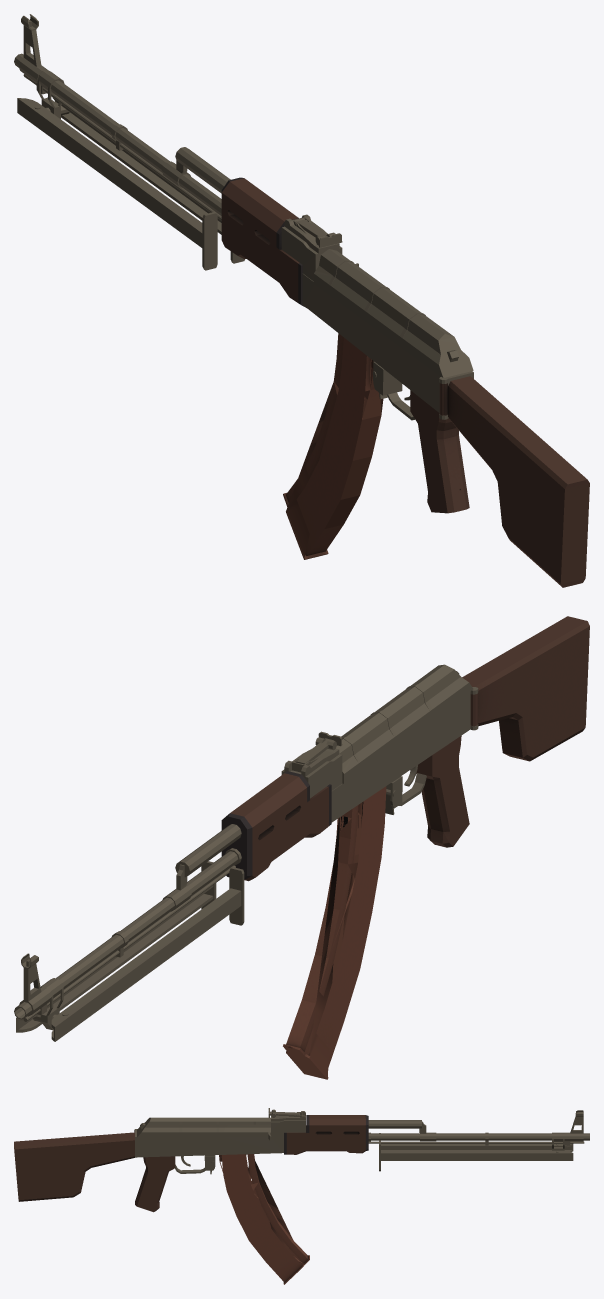
The model's file is rpk74.glb.
The picture shows the model from 3 angles, top to bottom: view 1: azimuth 30°, elevation 25°; view 2: azimuth 150°, elevation 25°; view 3: azimuth 270°, elevation 25°; orthographic projection. The views are drawn at different scales.
Visible parts, largest first — view 1: Stock_Heavy_AK_Platform_Guards_mat_0, Body_AK_Platform_Body_mat_0, Magazine_Extended_Bakelite_AK_Platforms_Magazine_mat_0, Barrel_Long_AK_Platform_Body_mat_0, Handguard_Heavy_AK_Platform_Guards_mat_0, Bipod_Leg_Left_AK_Platform_Body_mat_0, Grip_AK_Platform_Guards_mat_0, Bipod_Leg_Right_AK_Platform_Body_mat_0; view 2: Magazine_Extended_Bakelite_AK_Platforms_Magazine_mat_0, Body_AK_Platform_Body_mat_0, Stock_Heavy_AK_Platform_Guards_mat_0, Barrel_Long_AK_Platform_Body_mat_0, Handguard_Heavy_AK_Platform_Guards_mat_0, Bipod_Leg_Left_AK_Platform_Body_mat_0, Grip_AK_Platform_Guards_mat_0, Bipod_Leg_Right_AK_Platform_Body_mat_0, Ironsights_AK_Platform_Body_mat_0, Bipod_mount_AK_Platform_Body_mat_0; view 3: Body_AK_Platform_Body_mat_0, Stock_Heavy_AK_Platform_Guards_mat_0, Magazine_Extended_Bakelite_AK_Platforms_Magazine_mat_0, Barrel_Long_AK_Platform_Body_mat_0, Handguard_Heavy_AK_Platform_Guards_mat_0, Bipod_Leg_Right_AK_Platform_Body_mat_0, Bipod_Leg_Left_AK_Platform_Body_mat_0, Grip_AK_Platform_Guards_mat_0, Bolt_AK_Platform_Body_mat_0.
Part boxes in pixels (x1,y1,x2,y2): Stock_Heavy_AK_Platform_Guards_mat_0: [439, 376, 589, 587]; Body_AK_Platform_Body_mat_0: [281, 214, 473, 420]; Magazine_Extended_Bakelite_AK_Platforms_Magazine_mat_0: [283, 333, 383, 559]; Barrel_Long_AK_Platform_Body_mat_0: [14, 14, 230, 220]; Handguard_Heavy_AK_Platform_Guards_mat_0: [221, 177, 306, 307]; Bipod_Leg_Left_AK_Platform_Body_mat_0: [17, 98, 217, 270]; Grip_AK_Platform_Guards_mat_0: [410, 390, 469, 513]; Bipod_Leg_Right_AK_Platform_Body_mat_0: [53, 98, 244, 263]; Magazine_Extended_Bakelite_AK_Platforms_Magazine_mat_0: [283, 786, 386, 1079]; Body_AK_Platform_Body_mat_0: [281, 664, 478, 822]; Stock_Heavy_AK_Platform_Guards_mat_0: [462, 616, 589, 761]; Barrel_Long_AK_Platform_Body_mat_0: [14, 824, 241, 1021]; Handguard_Heavy_AK_Platform_Guards_mat_0: [221, 771, 331, 881]; Bipod_Leg_Left_AK_Platform_Body_mat_0: [51, 867, 244, 1041]; Grip_AK_Platform_Guards_mat_0: [410, 735, 469, 847]; Bipod_Leg_Right_AK_Platform_Body_mat_0: [16, 861, 216, 1032]; Ironsights_AK_Platform_Body_mat_0: [296, 731, 342, 765]; Bipod_mount_AK_Platform_Body_mat_0: [40, 978, 63, 1030]; Body_AK_Platform_Body_mat_0: [134, 1111, 305, 1173]; Stock_Heavy_AK_Platform_Guards_mat_0: [14, 1132, 134, 1201]; Magazine_Extended_Bakelite_AK_Platforms_Magazine_mat_0: [219, 1154, 309, 1284]; Barrel_Long_AK_Platform_Body_mat_0: [368, 1110, 589, 1145]; Handguard_Heavy_AK_Platform_Guards_mat_0: [284, 1115, 368, 1154]; Bipod_Leg_Right_AK_Platform_Body_mat_0: [379, 1140, 573, 1171]; Bipod_Leg_Left_AK_Platform_Body_mat_0: [379, 1133, 573, 1151]; Grip_AK_Platform_Guards_mat_0: [135, 1156, 175, 1212]; Bolt_AK_Platform_Body_mat_0: [223, 1124, 271, 1140].
Size of the model in its own units: 4.69 by 30.26 by 92.13.
3 materials, 3 textured.
